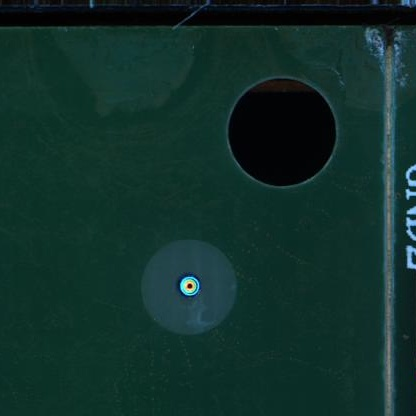spot: (175, 274, 202, 299)
